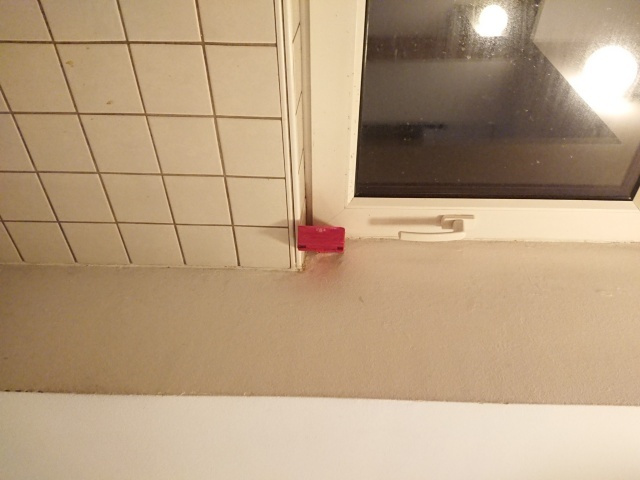Barcaffe Classic Original 225g: (294, 223, 348, 255)
